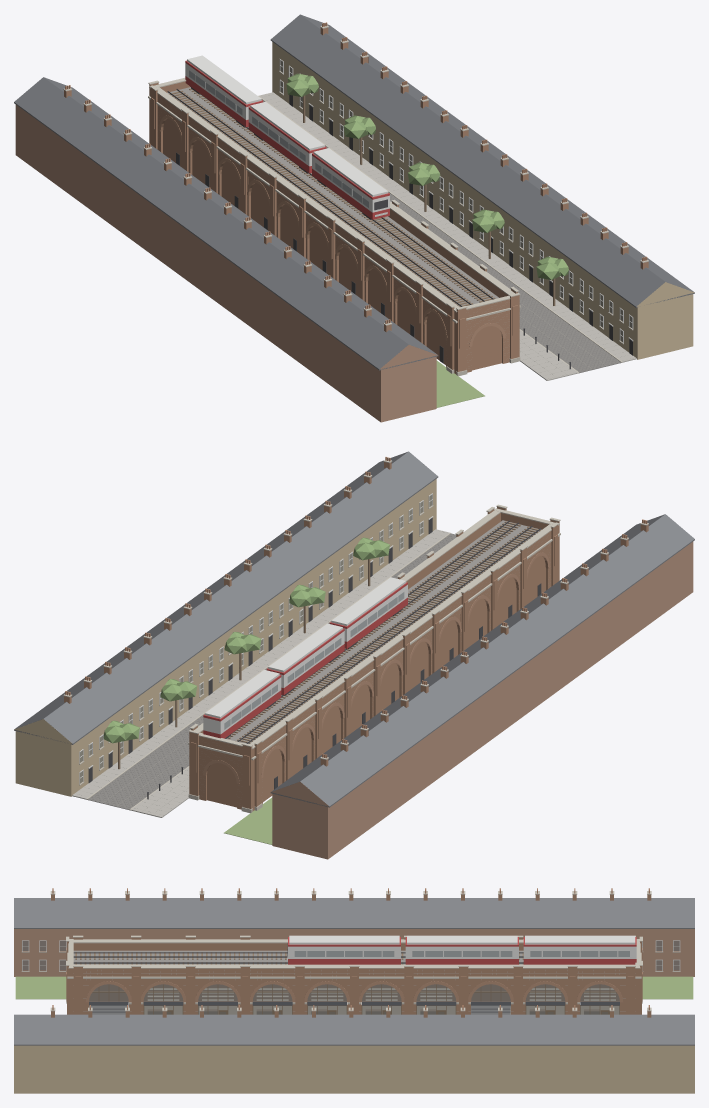
File: clay-brick-arch-viaduct-clay-v001.glb
The picture shows the model from 3 angles, top to bottom: view 1: azimuth 30°, elevation 25°; view 2: azimuth 150°, elevation 25°; view 3: azimuth 270°, elevation 25°; orthographic projection. The views are drawn at different scales.
Visible parts, largest first — view 1: CLAY_ROOF, CLAY_TERRACE2, CLAY_WALL, CLAY_TERRACE, CLAY_STONE, CLAY_PAVING, CLAY_TIMBER, CLAY_BALLAST, CLAY_WHITE, CLAY_SETTS, CLAY_PALE, CLAY_PLANTING (+9 smaller); view 2: CLAY_ROOF, CLAY_TERRACE2, CLAY_WALL, CLAY_TERRACE, CLAY_STONE, CLAY_PAVING, CLAY_TIMBER, CLAY_BALLAST, CLAY_WHITE, CLAY_SETTS, CLAY_PALE, CLAY_PLANTING (+9 smaller); view 3: CLAY_ROOF, CLAY_TERRACE, CLAY_WALL, CLAY_GLASS, CLAY_TERRACE2, CLAY_STONE, CLAY_WHITE, CLAY_PALE, CLAY_RED, CLAY_BALLAST, CLAY_GRASS, CLAY_ARCH (+10 smaller).
Part boxes in pixels (<box>): CLAY_ROOF: <box>14,14,694,370</box>; CLAY_TERRACE2: <box>15,104,437,422</box>; CLAY_WALL: <box>149,81,519,374</box>; CLAY_TERRACE: <box>272,42,694,359</box>; CLAY_STONE: <box>63,25,648,376</box>; CLAY_PAVING: <box>259,92,636,380</box>; CLAY_TIMBER: <box>169,88,555,306</box>; CLAY_BALLAST: <box>167,87,498,306</box>; CLAY_WHITE: <box>185,59,633,343</box>; CLAY_SETTS: <box>261,99,621,373</box>; CLAY_PALE: <box>187,55,633,341</box>; CLAY_PLANTING: <box>286,73,568,279</box>; CLAY_ROOF: <box>14,451,694,807</box>; CLAY_TERRACE2: <box>271,541,693,859</box>; CLAY_WALL: <box>189,507,559,811</box>; CLAY_TERRACE: <box>14,479,436,796</box>; CLAY_STONE: <box>63,460,648,813</box>; CLAY_PAVING: <box>72,529,449,817</box>; CLAY_TIMBER: <box>118,521,540,769</box>; CLAY_BALLAST: <box>226,520,541,743</box>; CLAY_WHITE: <box>79,493,432,784</box>; CLAY_SETTS: <box>87,533,456,810</box>; CLAY_PALE: <box>88,516,433,768</box>; CLAY_PLANTING: <box>103,537,389,743</box>; CLAY_ROOF: <box>14,898,694,1045</box>; CLAY_TERRACE: <box>14,1045,694,1093</box>; CLAY_WALL: <box>66,937,642,1014</box>; CLAY_GLASS: <box>22,941,679,1014</box>; CLAY_TERRACE2: <box>14,929,694,976</box>; CLAY_STONE: <box>21,891,680,1011</box>; CLAY_WHITE: <box>22,940,680,970</box>; CLAY_PALE: <box>287,935,635,961</box>; CLAY_RED: <box>288,937,636,964</box>; CLAY_BALLAST: <box>73,950,523,964</box>; CLAY_GRASS: <box>15,976,693,999</box>; CLAY_ARCH: <box>86,981,622,1002</box>.
Size of the model in its own units: 51 by 13.16 by 102.
